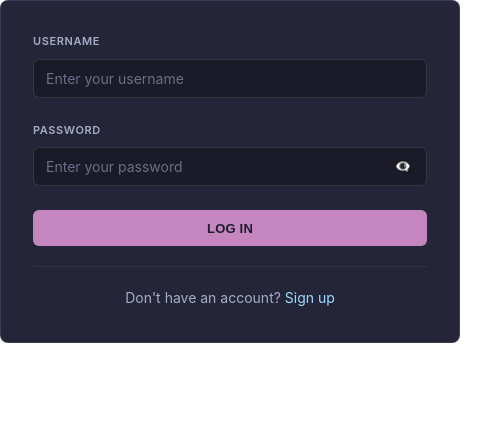
Test: LoginPage_apiFailure_showsErrorBanner › should show error banner when login fails
Type "testuser" into the field with placeholder "Enter your username" at (230, 78), box [33,59,427,98]
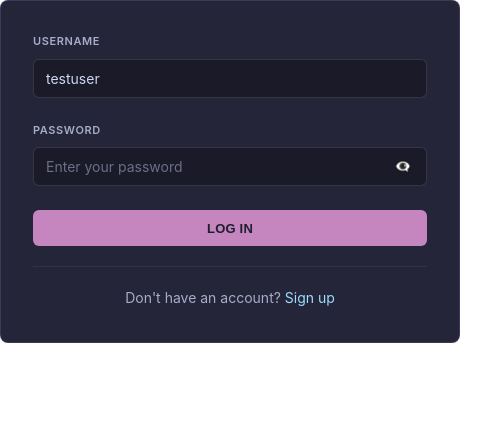
Type "wrongpass" into the password field with placeholder "Enter your password" at (230, 167), box [33,147,427,186]
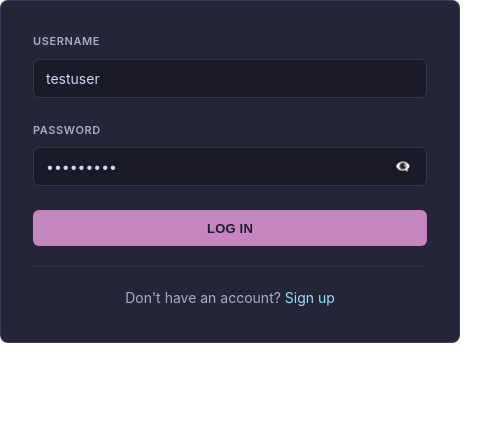
Click the button "LOG IN" at (230, 228), box [33,210,427,246]
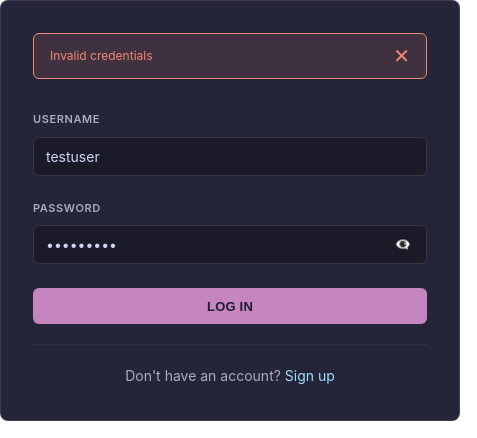
Expected: the text "Invalid credentials" is shown, [50,48,152,63]
Expected: the message "Invalid credentials ✕" is shown, [33,33,427,79]
